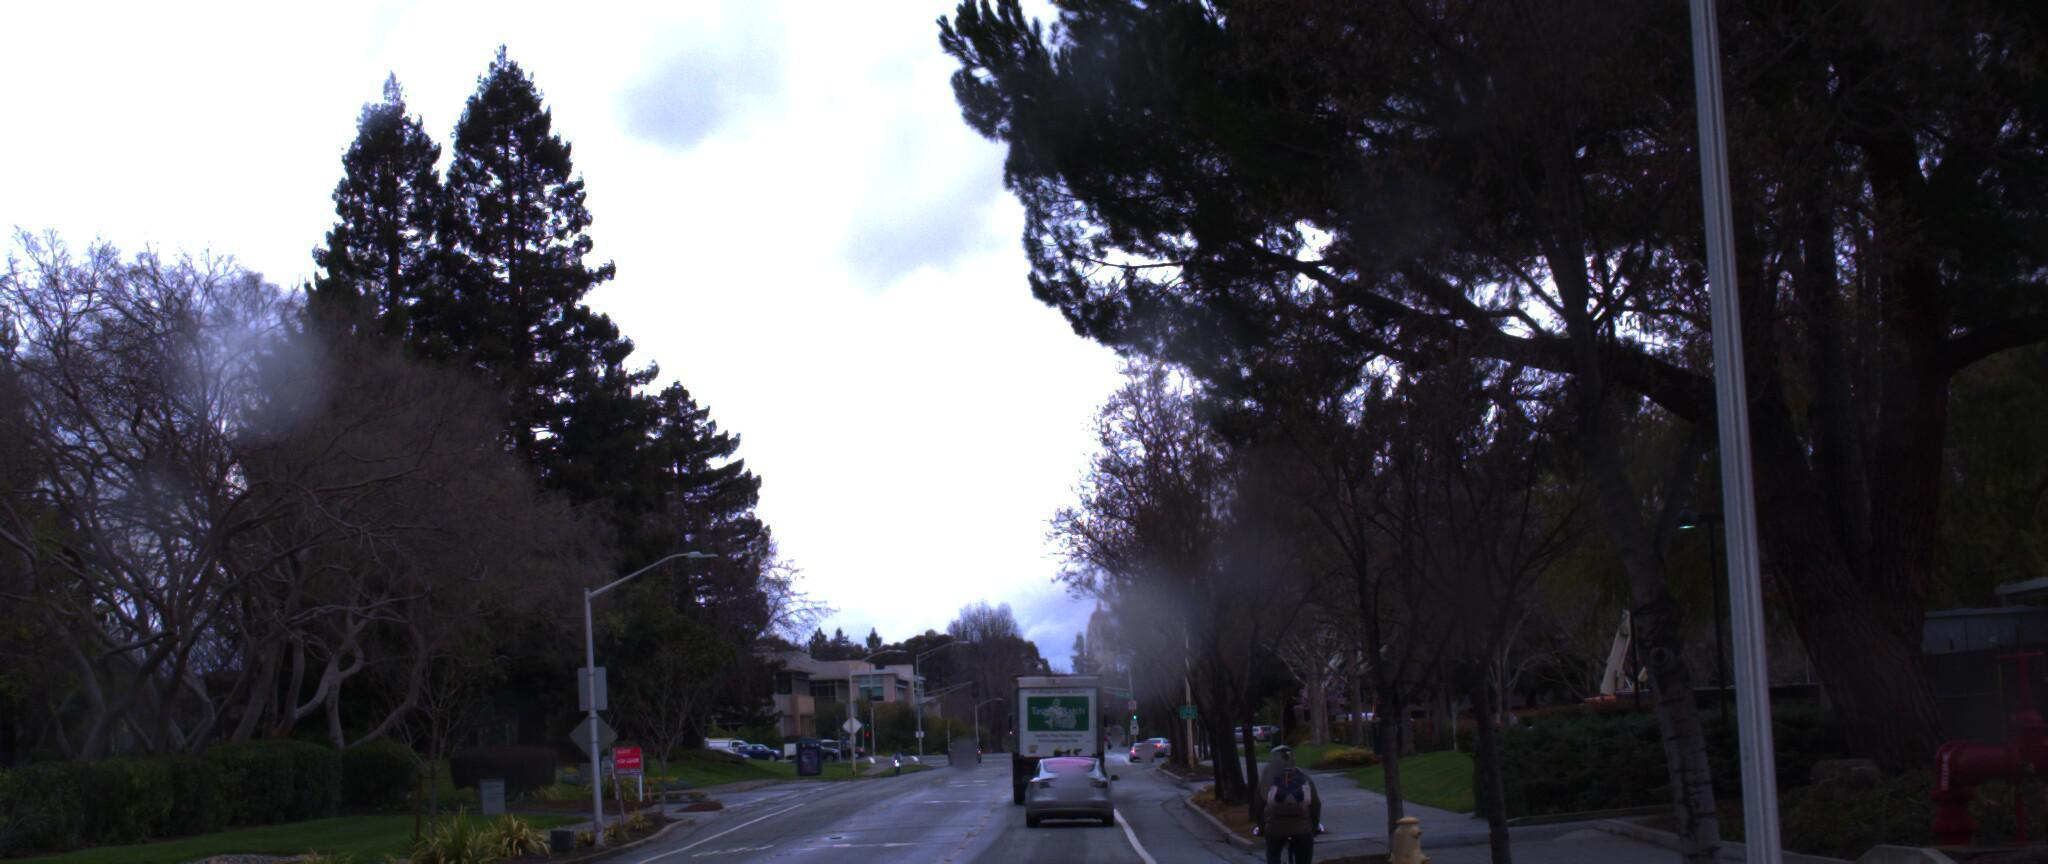bicycle: (1240, 731, 1341, 864)
car: (1028, 757, 1115, 838)
truck: (1007, 671, 1134, 814)
